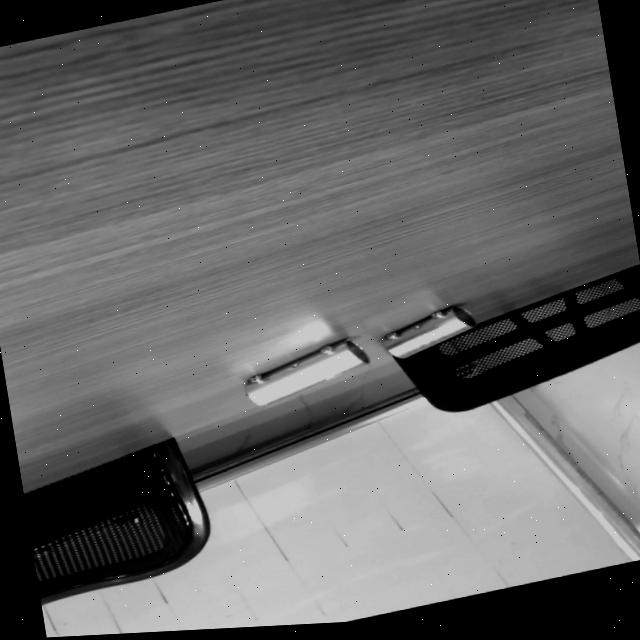Co_Lon: (241, 332, 370, 410)
Co_Nho: (381, 298, 477, 365)
